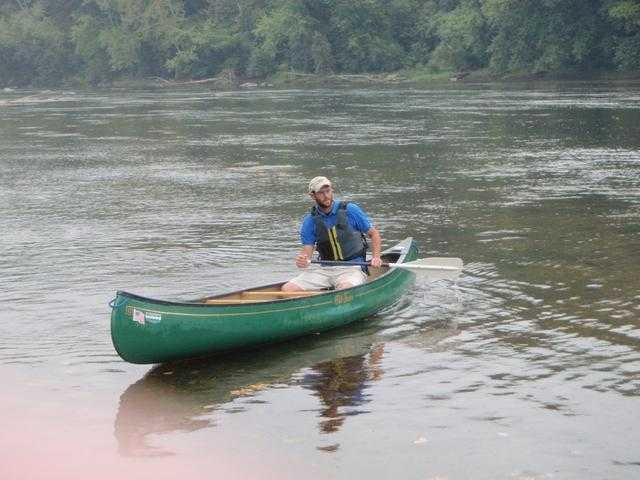kayak: (108, 237, 457, 366)
